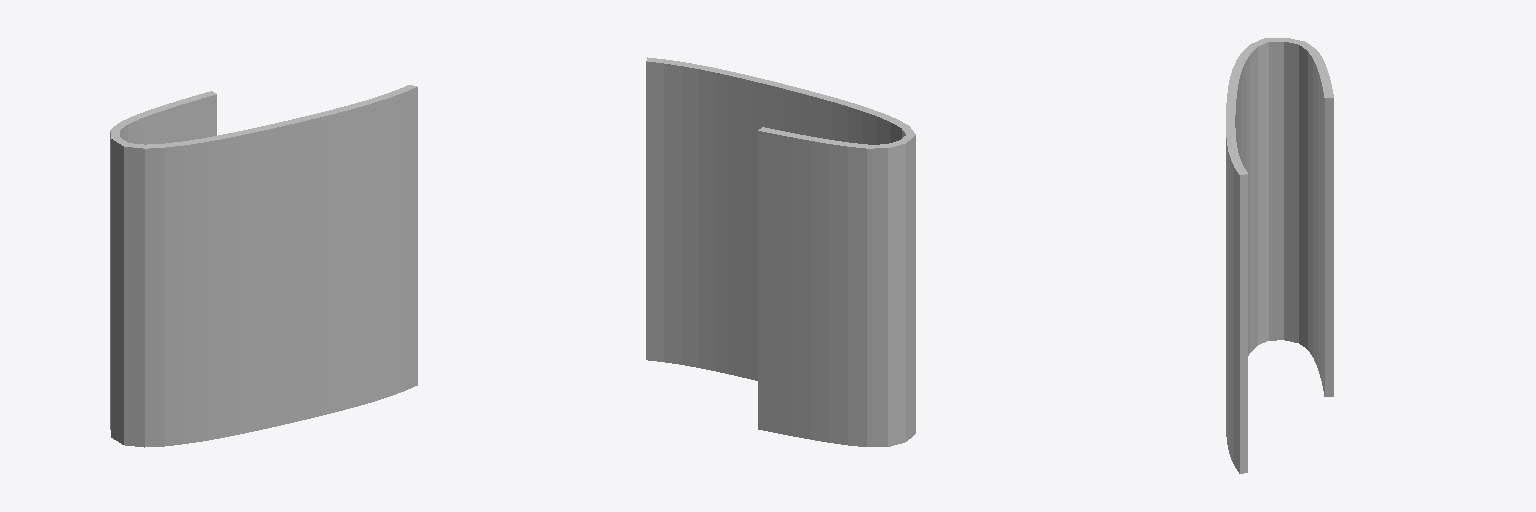
The model's file is SimpleFold0.obj.
3 renders of one model, left to right at view 1: azimuth 30°, elevation 25°; view 2: azimuth 150°, elevation 25°; view 3: azimuth 270°, elevation 25°, orthographic.
Visible parts, largest first — view 1: Cube_Cube.001; view 2: Cube_Cube.001; view 3: Cube_Cube.001.
Boxes of the visible parts, <box> form: Cube_Cube.001: <box>110,85,417,447</box>; Cube_Cube.001: <box>646,57,915,446</box>; Cube_Cube.001: <box>1226,38,1333,473</box>.
Bounding box in the file's own units: 4.57 × 4.62 × 1.52.